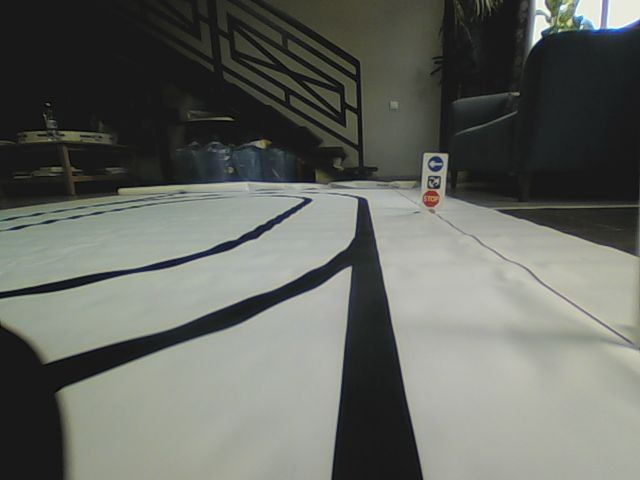Stop: (423, 191, 440, 207)
